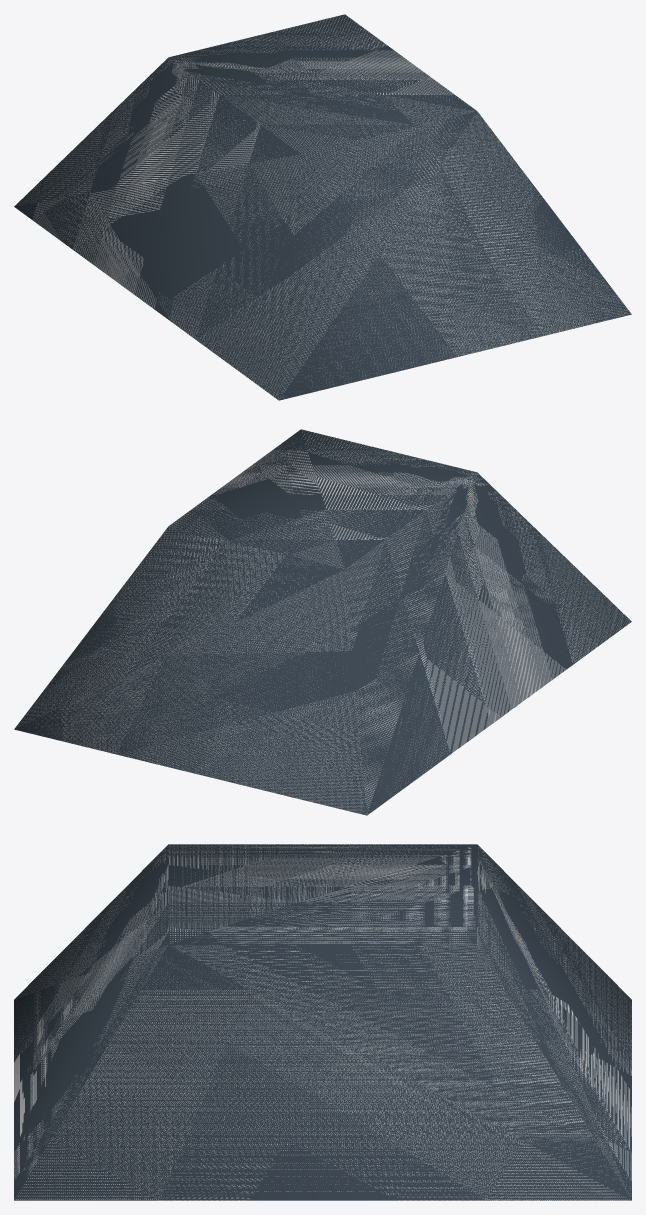
Rendered from original-11.obj.
3 renders of one model, top to bottom at view 1: azimuth 30°, elevation 25°; view 2: azimuth 150°, elevation 25°; view 3: azimuth 270°, elevation 25°, orthographic. The views are drawn at different scales.
Visible parts, largest first — view 1: Component_5_6/Component_5/mesh4/mesh4-geometry#mesh4-geometry; view 2: Component_5_6/Component_5/mesh4/mesh4-geometry#mesh4-geometry; view 3: Component_5_6/Component_5/mesh4/mesh4-geometry#mesh4-geometry.
Part boxes in pixels (box(x1,y1,x2,y2)): Component_5_6/Component_5/mesh4/mesh4-geometry#mesh4-geometry: box(14, 14, 631, 400); Component_5_6/Component_5/mesh4/mesh4-geometry#mesh4-geometry: box(14, 429, 631, 815); Component_5_6/Component_5/mesh4/mesh4-geometry#mesh4-geometry: box(14, 844, 631, 1200).
Bounding box in the file's own units: 0.0787 × 0.0376 × 0.1023.
